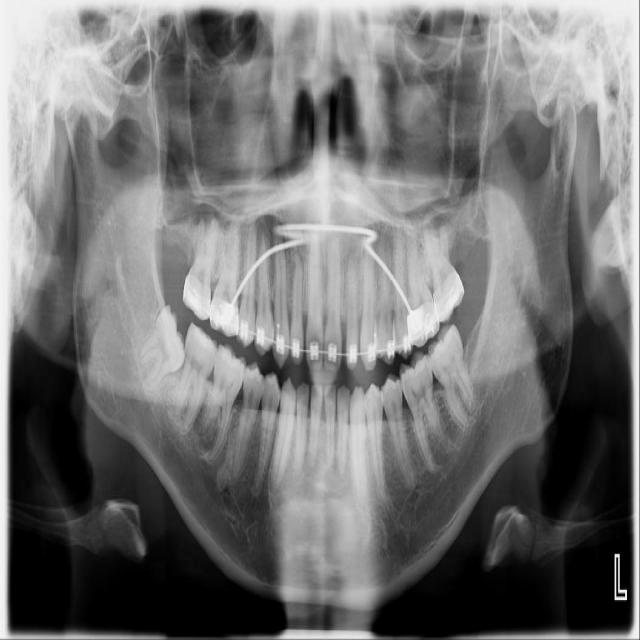Periapical lesion: (193, 408, 216, 448)
impacted tooth: (131, 307, 183, 396)
